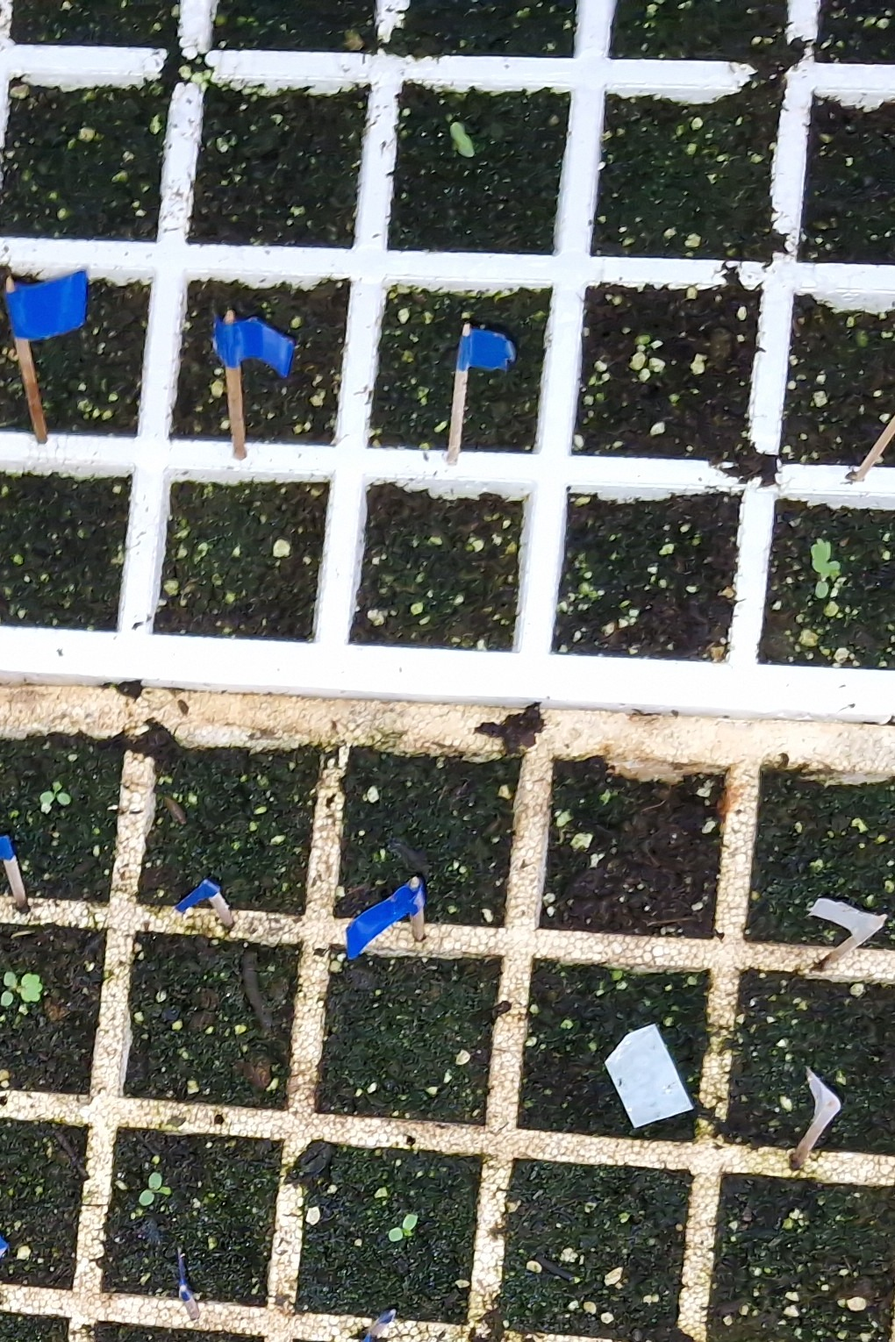Folha: (21, 973, 42, 1003), (149, 1172, 162, 1190), (139, 1190, 154, 1205), (1, 991, 13, 1006), (41, 791, 54, 804), (57, 792, 70, 805), (4, 971, 15, 986), (53, 781, 62, 794)
Germinacao: (1, 971, 43, 1007), (139, 1172, 171, 1205), (40, 781, 71, 805)
